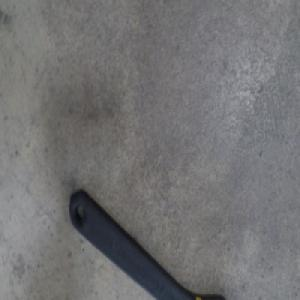AdjustableWrench: (68, 188, 221, 299)
